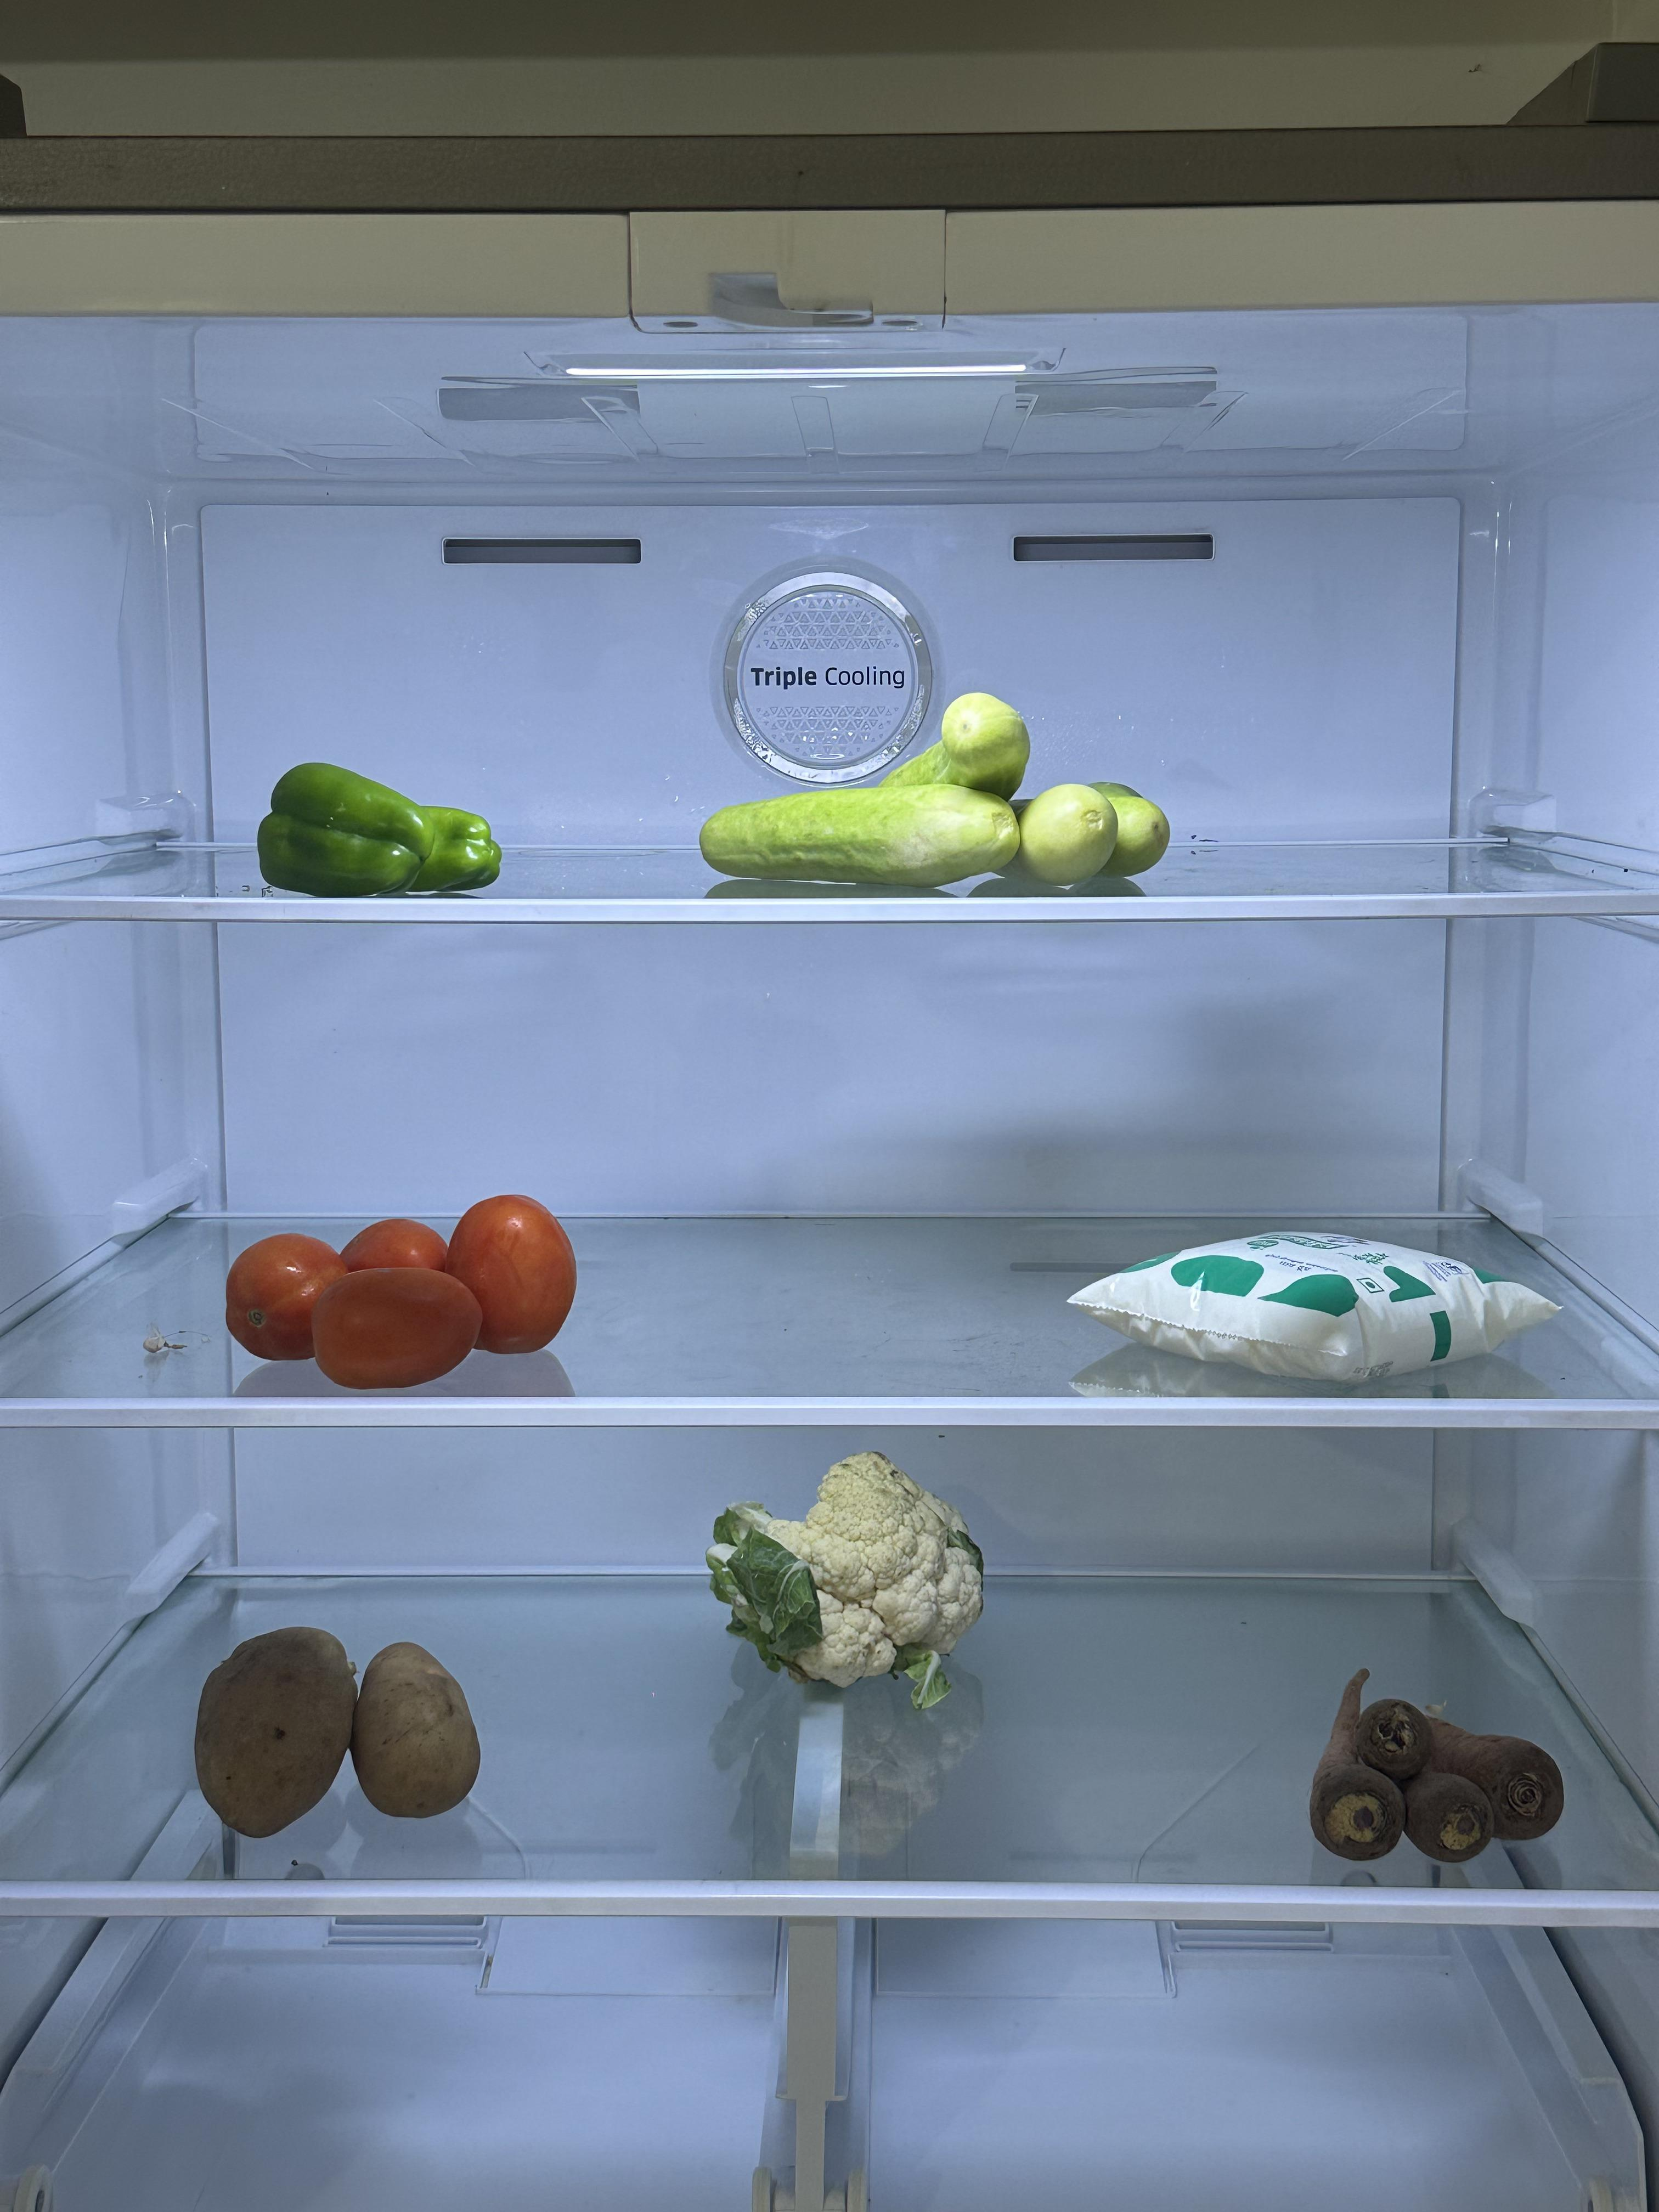capsicum: (242, 742, 521, 907)
carrots: (1263, 1641, 1588, 1869)
cauliflower: (671, 1439, 1004, 1688)
cucumber: (692, 676, 1183, 899)
milk: (1065, 1197, 1565, 1385)
potato: (188, 1615, 486, 1838)
tomato: (209, 1197, 608, 1393)
